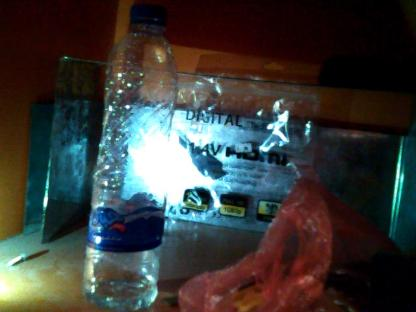Plastic Bottle: (82, 0, 180, 312)
